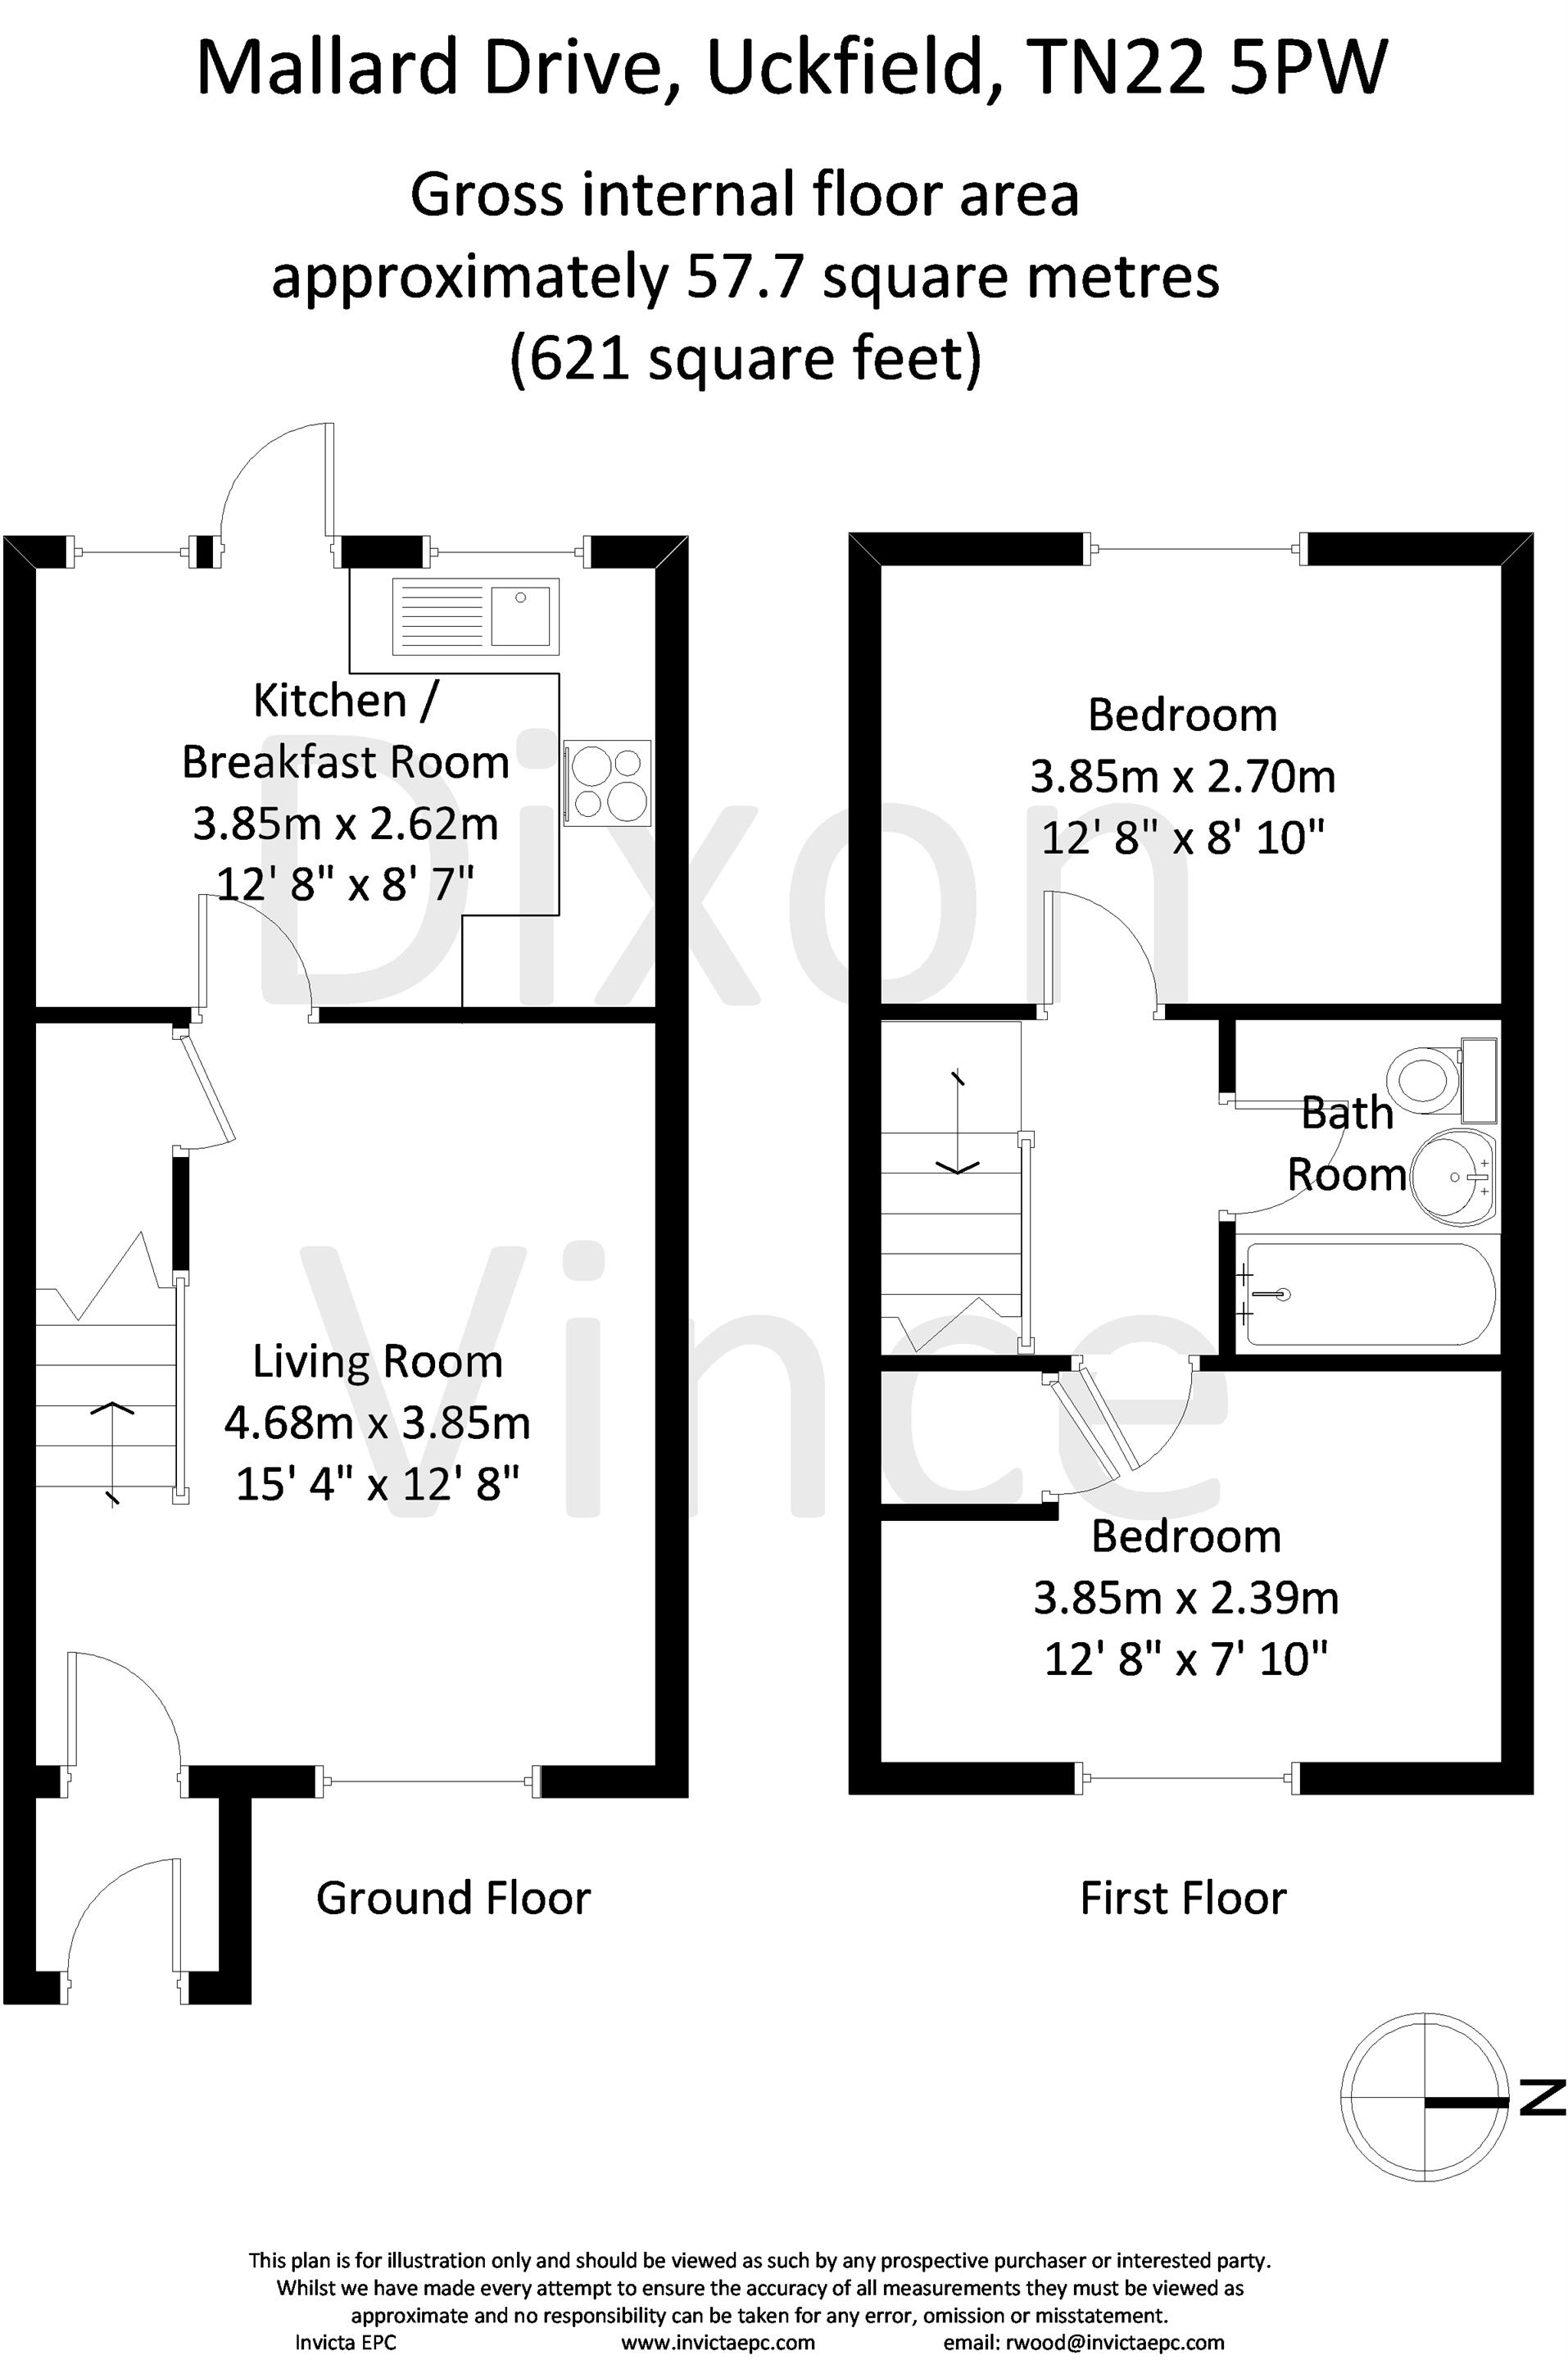wall: (1523, 557, 1538, 1782), (863, 543, 875, 1772), (19, 550, 26, 1991), (681, 562, 684, 1791), (539, 1772, 681, 1802), (1297, 1779, 1503, 1791), (868, 1000, 1046, 1012), (191, 1768, 313, 1786), (1221, 1362, 1523, 1369), (249, 1779, 257, 1996), (882, 539, 1083, 546), (882, 1772, 1080, 1779), (1321, 539, 1512, 546), (1162, 1005, 1523, 1008), (320, 1015, 670, 1019), (861, 1359, 1060, 1362), (868, 1514, 1046, 1518), (0, 1008, 175, 1012), (182, 1154, 185, 1287)
